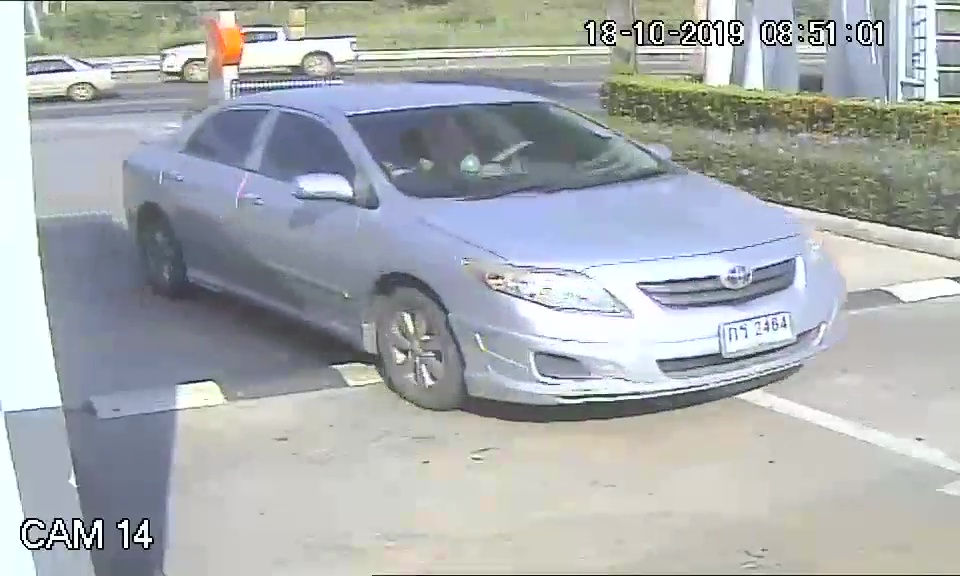sedan: (114, 82, 842, 421)
